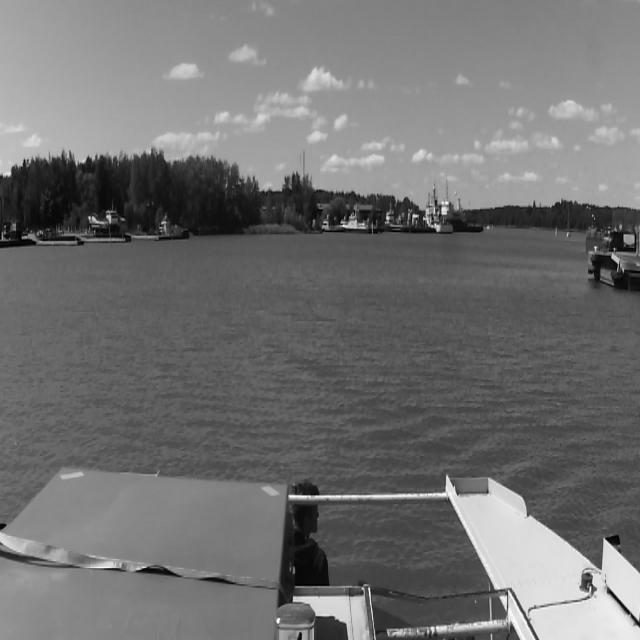ship: (88, 209, 122, 236), (340, 212, 379, 234), (158, 214, 188, 241), (425, 182, 439, 232), (566, 206, 570, 237)
